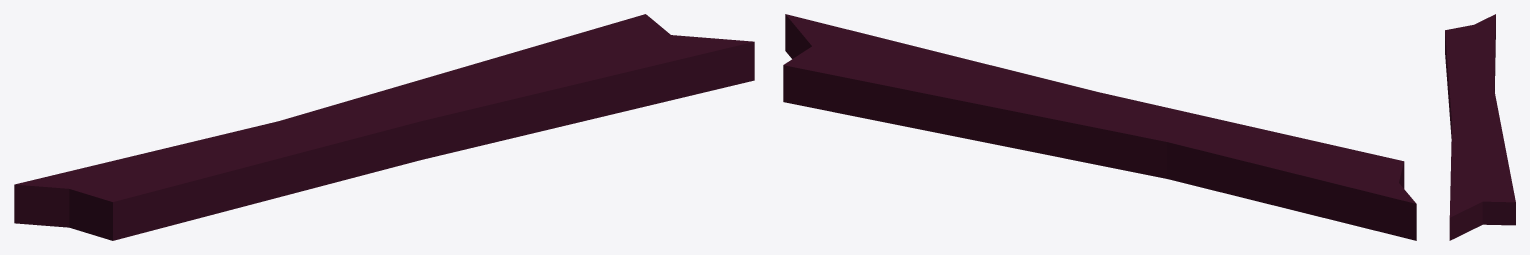
The model's file is prop_wood_broken_small.FBX.
3 views of the same model, side by side, from view 1: azimuth 30°, elevation 25°; view 2: azimuth 150°, elevation 25°; view 3: azimuth 270°, elevation 25° (orthographic). The views are drawn at different scales.
Visible parts, largest first — view 1: Object011; view 2: Object011; view 3: Object011.
Part boxes in pixels (x1,y1,x2,y2): Object011: [14, 14, 754, 240]; Object011: [783, 14, 1416, 240]; Object011: [1445, 14, 1515, 240].
Size of the model in its own units: 2.62 by 0.1384 by 0.385.
